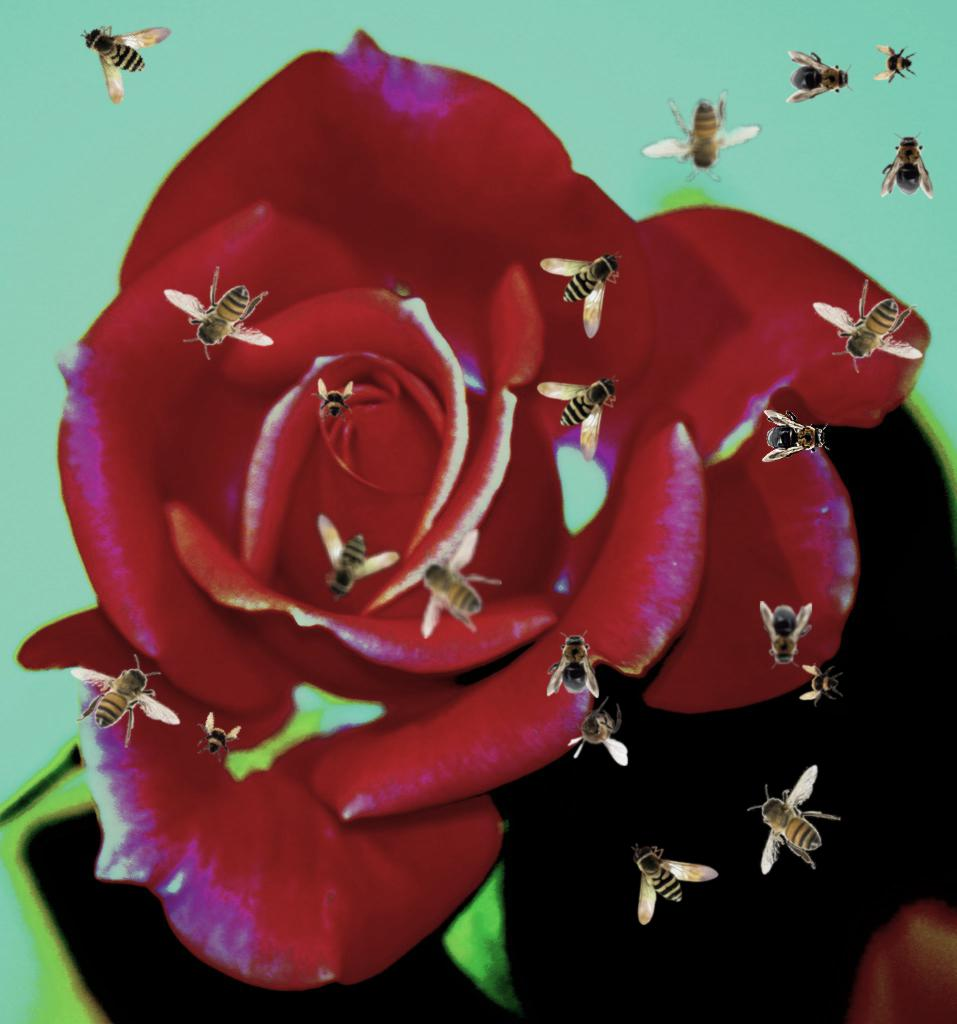Bee: (625, 66, 772, 208), (291, 488, 407, 606), (78, 1, 190, 109), (70, 654, 181, 748), (747, 764, 841, 875), (408, 528, 502, 639), (812, 279, 923, 373), (163, 266, 274, 360), (537, 375, 619, 463), (631, 843, 719, 925), (540, 251, 622, 339), (567, 696, 628, 766), (881, 131, 933, 199), (547, 630, 599, 698), (762, 410, 830, 462), (760, 601, 812, 669), (786, 51, 854, 103), (187, 708, 245, 766), (799, 663, 843, 707), (873, 43, 917, 87), (311, 378, 355, 422)
